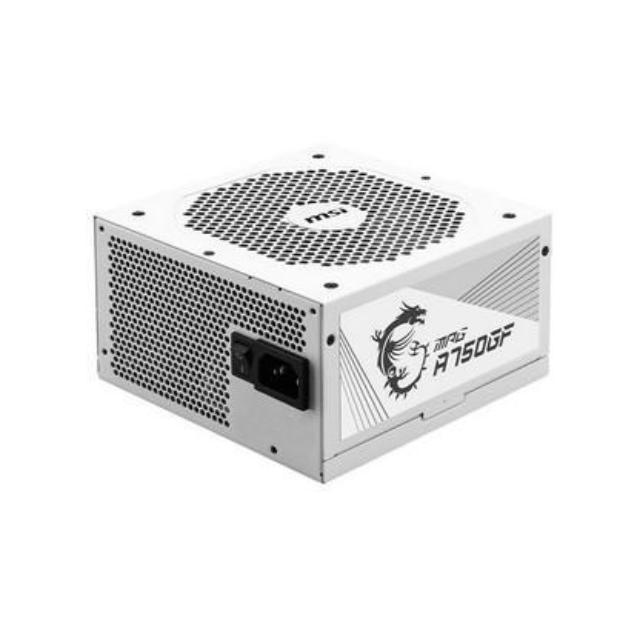PSU: (67, 130, 585, 488)
